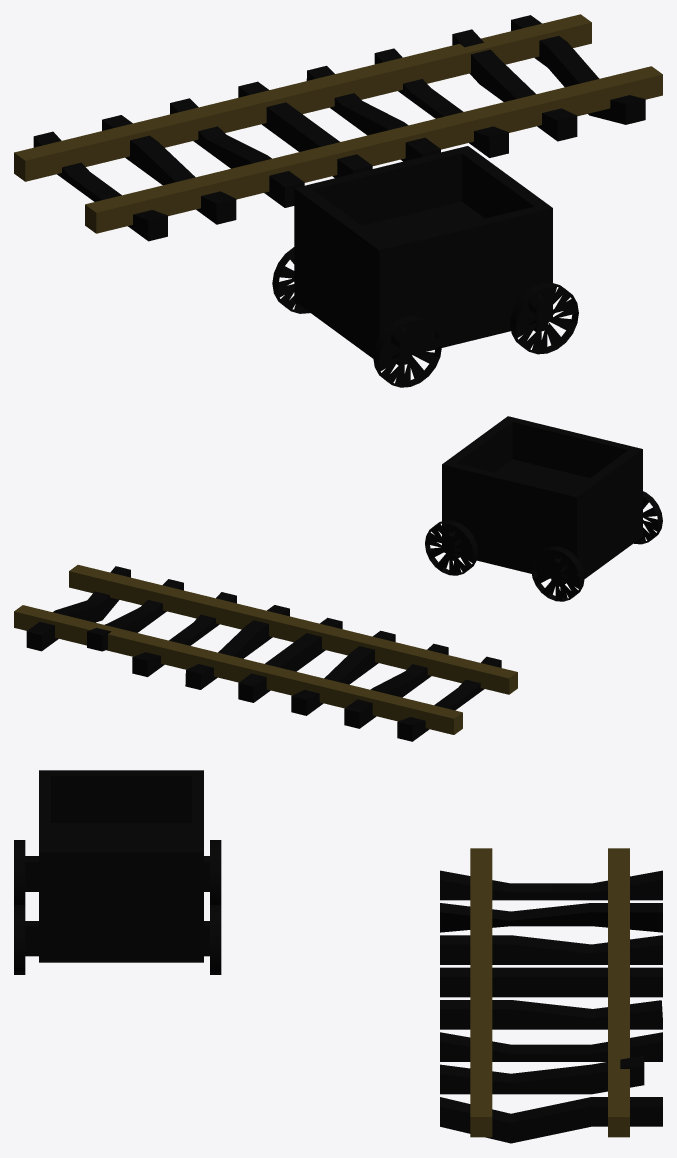
Rendered from Props.fbx.
3 renders of one model, top to bottom at view 1: azimuth 30°, elevation 25°; view 2: azimuth 150°, elevation 25°; view 3: azimuth 270°, elevation 25°, orthographic. The views are drawn at different scales.
Visible parts, largest first — view 1: pCube1, pCube3, pCube2, pCylinder2, pCylinder1, pCube6, pCube5, pCube11, pCube9, pCube10, pCube8, pCube7 (+2 smaller); view 2: pCube1, pCube2, pCube3, pCube9, pCylinder4, pCylinder3, pCube5, pCube10, pCube8, pCube11, pCube6, pCube7 (+2 smaller); view 3: pCube1, pCube2, pCube3, pCube9, pCube5, pCube8, pCube10, pCube6, pCube11, pCube12, pCube7, pCylinder2 (+3 smaller).
Part boxes in pixels (left/top/right/bottom): pCube1: left=294, top=146, right=552, bottom=365; pCube3: left=14, top=14, right=591, bottom=181; pCube2: left=85, top=66, right=662, bottom=233; pCylinder2: left=510, top=282, right=578, bottom=354; pCylinder1: left=373, top=316, right=441, bottom=387; pCube6: left=452, top=29, right=577, bottom=141; pCube5: left=511, top=15, right=645, bottom=124; pCube11: left=102, top=115, right=236, bottom=224; pCube9: left=238, top=81, right=372, bottom=178; pCube10: left=170, top=98, right=304, bottom=207; pCube8: left=306, top=65, right=440, bottom=161; pCube7: left=374, top=48, right=508, bottom=157; pCube1: left=442, top=416, right=642, bottom=586; pCube2: left=69, top=565, right=517, bottom=694; pCube3: left=14, top=605, right=462, bottom=734; pCube9: left=238, top=617, right=342, bottom=702; pCylinder4: left=531, top=546, right=584, bottom=601; pCylinder3: left=425, top=520, right=478, bottom=575; pCube5: left=26, top=566, right=130, bottom=651; pCube10: left=291, top=630, right=395, bottom=715; pCube8: left=185, top=605, right=289, bottom=689; pCube11: left=344, top=643, right=448, bottom=728; pCube6: left=87, top=579, right=183, bottom=651; pCube7: left=132, top=592, right=236, bottom=677; pCube1: left=25, top=770, right=209, bottom=962; pCube2: left=470, top=848, right=492, bottom=1137; pCube3: left=608, top=848, right=629, bottom=1137; pCube9: left=440, top=967, right=662, bottom=997; pCube5: left=440, top=1097, right=662, bottom=1143; pCube8: left=440, top=1000, right=662, bottom=1029; pCube10: left=440, top=935, right=662, bottom=964; pCube6: left=440, top=1055, right=644, bottom=1094; pCube11: left=440, top=903, right=662, bottom=932; pCube12: left=440, top=870, right=662, bottom=900; pCube7: left=440, top=1032, right=662, bottom=1061; pCylinder2: left=14, top=905, right=25, bottom=974.
Bounding box in the file's own units: 36.65 × 9.48 × 37.4.
